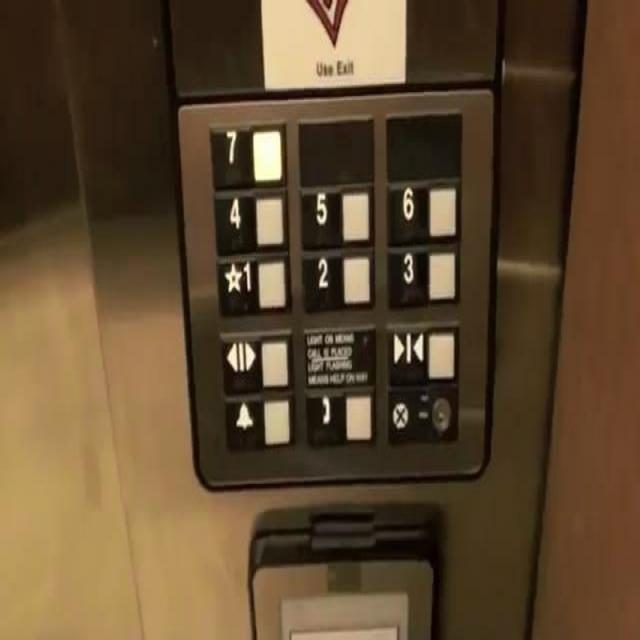2: (297, 240, 376, 311)
3: (386, 244, 463, 308)
4: (212, 182, 290, 254)
5: (297, 178, 375, 250)
6: (386, 178, 462, 245)
7: (208, 116, 286, 191)
alarm: (222, 388, 299, 453)
call: (303, 383, 377, 449)
close: (383, 317, 460, 387)
open: (217, 324, 296, 399)
s1: (212, 247, 290, 317)
stop: (384, 379, 460, 445)
